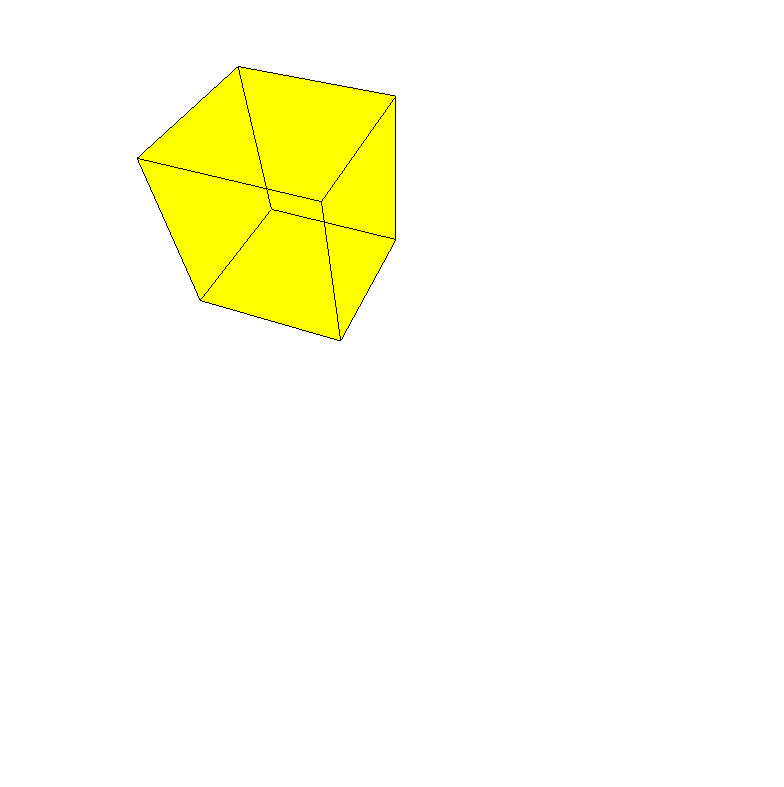YellowNothing: (134, 66, 571, 393)
